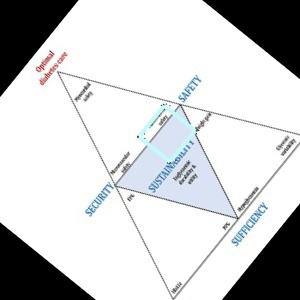square: (135, 102, 202, 163)
triangle: (54, 70, 300, 300), (113, 102, 243, 223)
